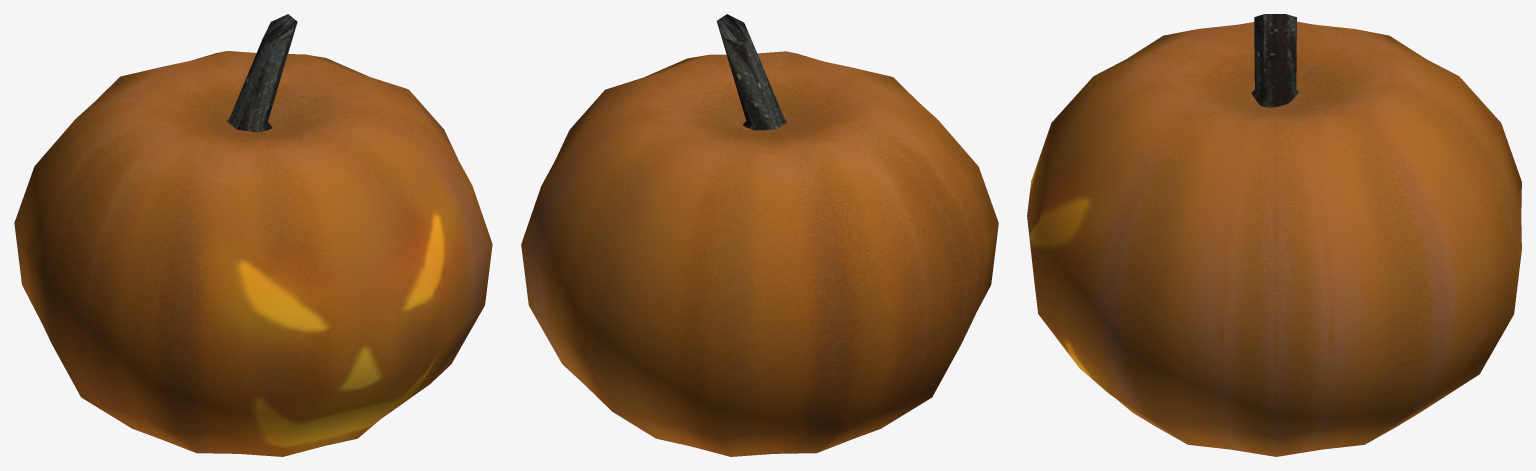
File: pumpkin_carved_2.fbx
3 views of the same model, side by side, from view 1: azimuth 30°, elevation 25°; view 2: azimuth 150°, elevation 25°; view 3: azimuth 270°, elevation 25° (orthographic). The views are drawn at different scales.
Parts seen in each view (by area): view 1: pumpkin_carved_2; view 2: pumpkin_carved_2; view 3: pumpkin_carved_2.
Part boxes in pixels (<box>): pumpkin_carved_2: <box>14,14,492,456</box>; pumpkin_carved_2: <box>521,14,998,456</box>; pumpkin_carved_2: <box>1027,14,1521,456</box>.
Bounding box in the file's own units: 2.17 × 1.88 × 2.08.
